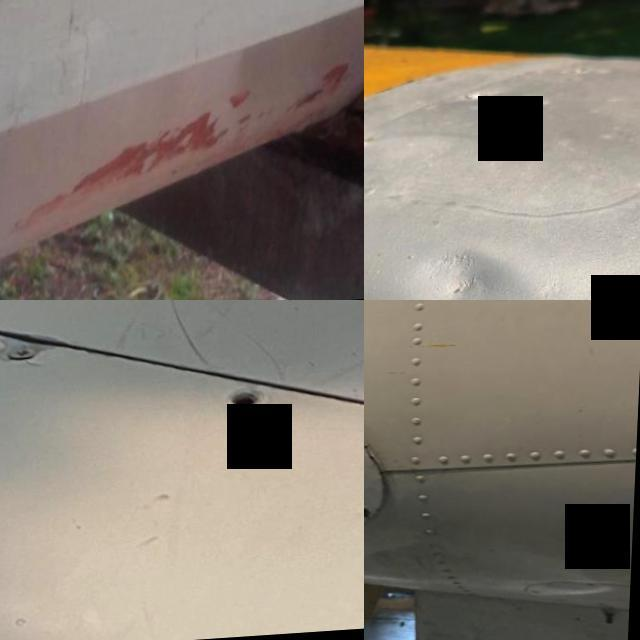Crack: (364, 430, 401, 487)
Dent: (387, 219, 535, 300)
Missing_Fastener: (222, 391, 267, 423), (364, 510, 375, 523)
